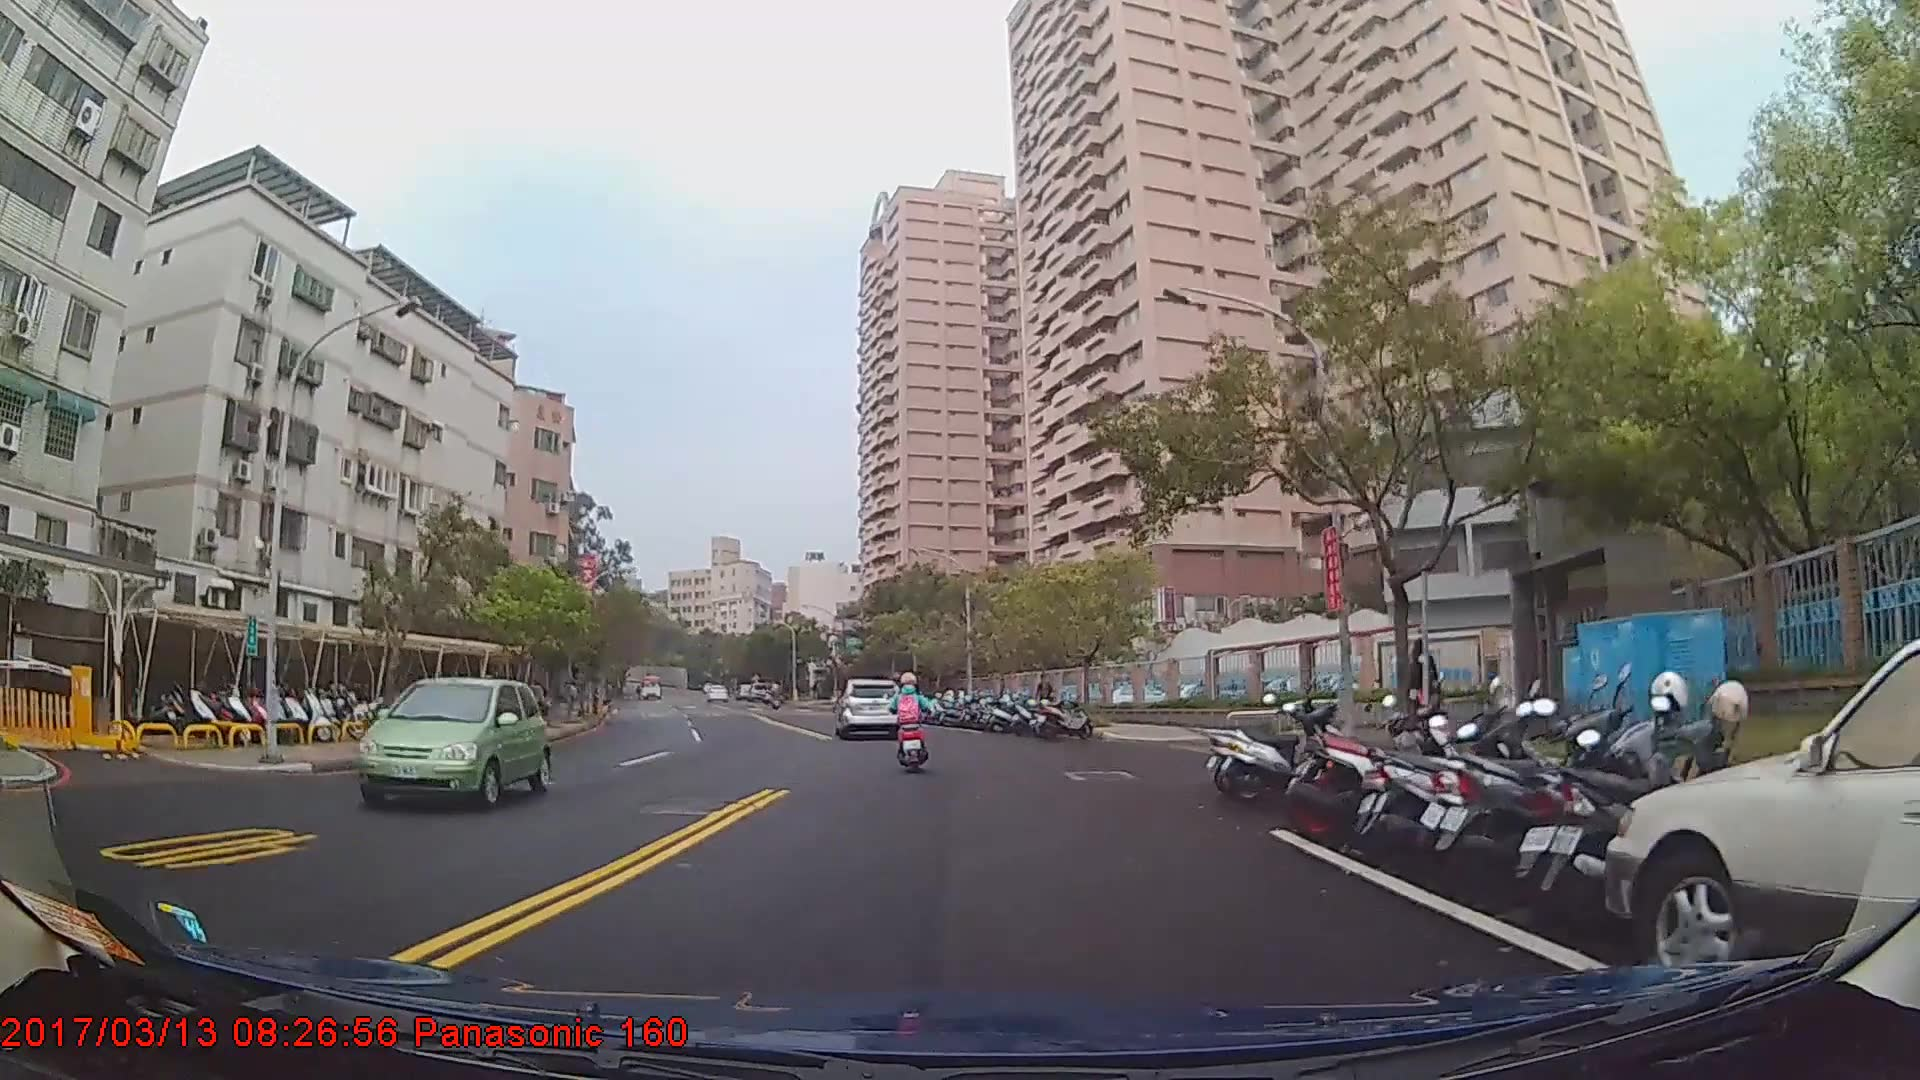pedestrian: (1407, 634, 1441, 759), (1034, 673, 1055, 728)
rider: (890, 672, 934, 777)
vehicle: (1604, 650, 1920, 994), (351, 675, 547, 808), (836, 674, 902, 739), (636, 674, 664, 701)
